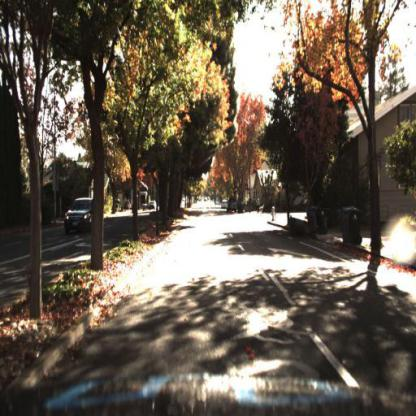car: (64, 195, 102, 236), (59, 196, 97, 232), (225, 196, 240, 216)
pedestrian: (256, 196, 262, 217)
